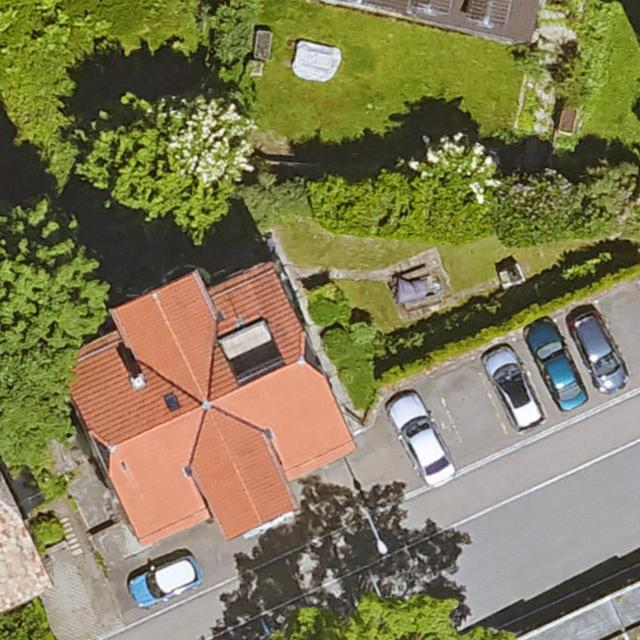tree: (0, 201, 108, 456), (98, 99, 248, 233), (274, 592, 520, 640), (415, 139, 494, 231)
